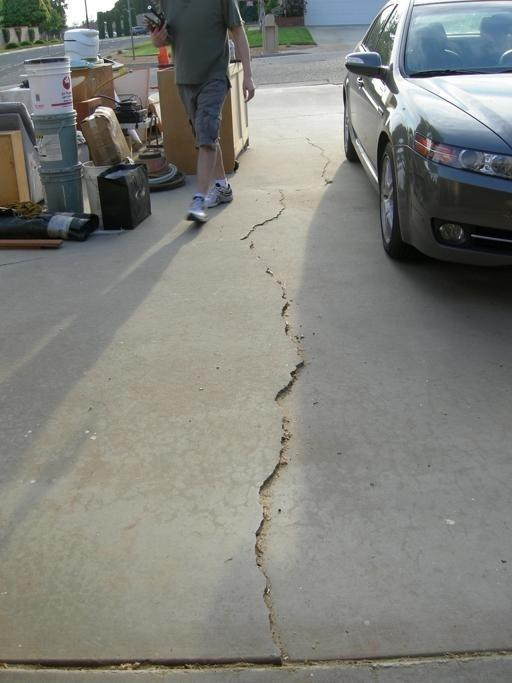Crack: (240, 178, 333, 668), (0, 632, 512, 682)
